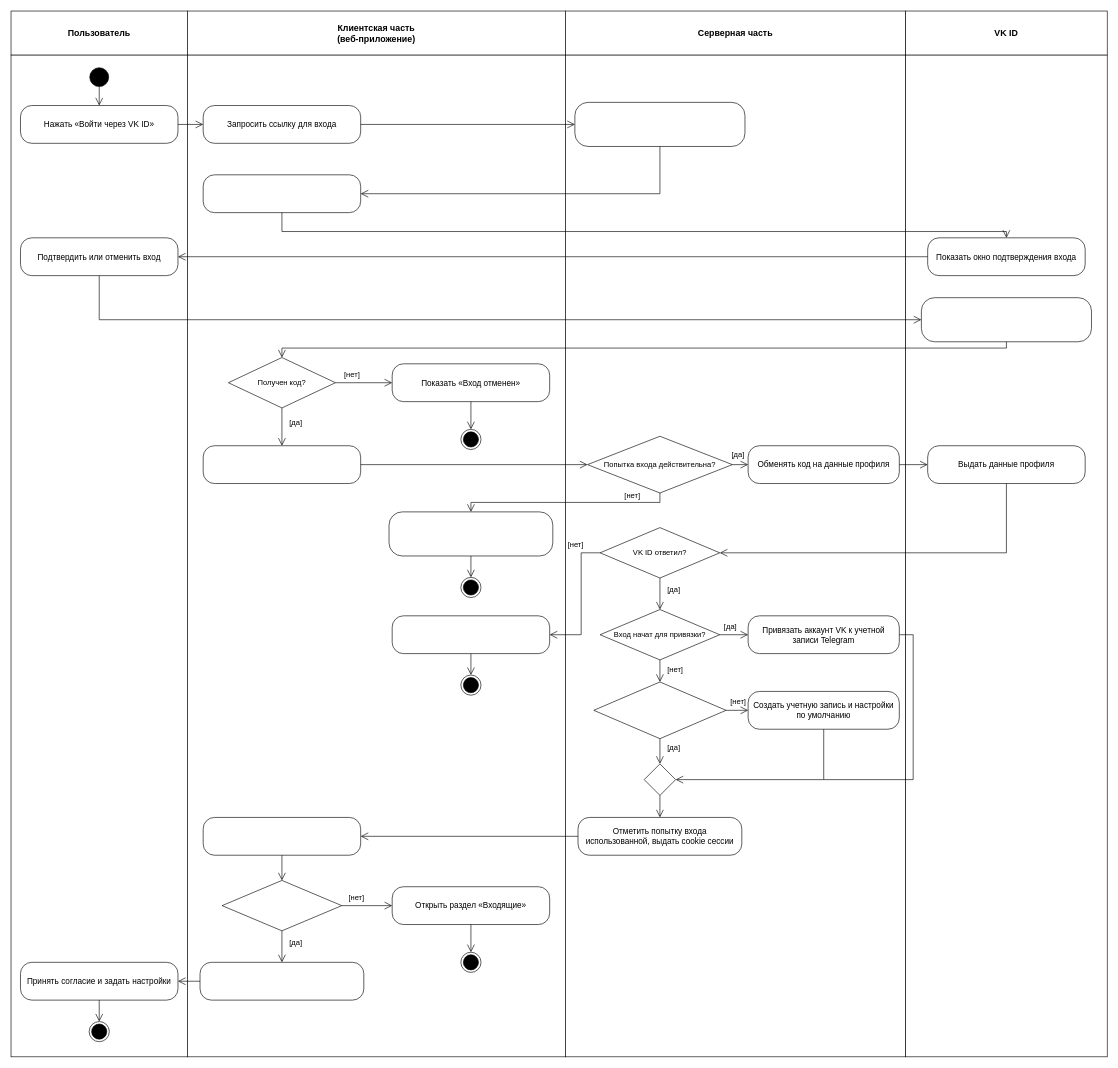
Some shapes in this 1118 by 1068 pixel diagram are drawn without their labels. Here are the shapes that lost their labels. From the top down, the centre of each, then its label:
the point at 659,124: Сохранить попытку входа, сформировать ссылку на VK ID
the point at 282,193: Перенаправить браузер на VK ID
the point at 1006,319: Вернуть пользователя в веб-приложение с кодом авторизации или отказом
the point at 282,464: Передать код авторизации на сервер
the point at 470,533: Показать «Время входа истекло», предложить войти снова
the point at 471,634: Показать «Вход через VK временно недоступен»
the point at 659,710: Учетная запись найдена?
the point at 282,836: Открыть сессию пользователя
the point at 281,905: Новый пользователь?
the point at 281,981: Показать онбординг и согласие на обработку ПДн
